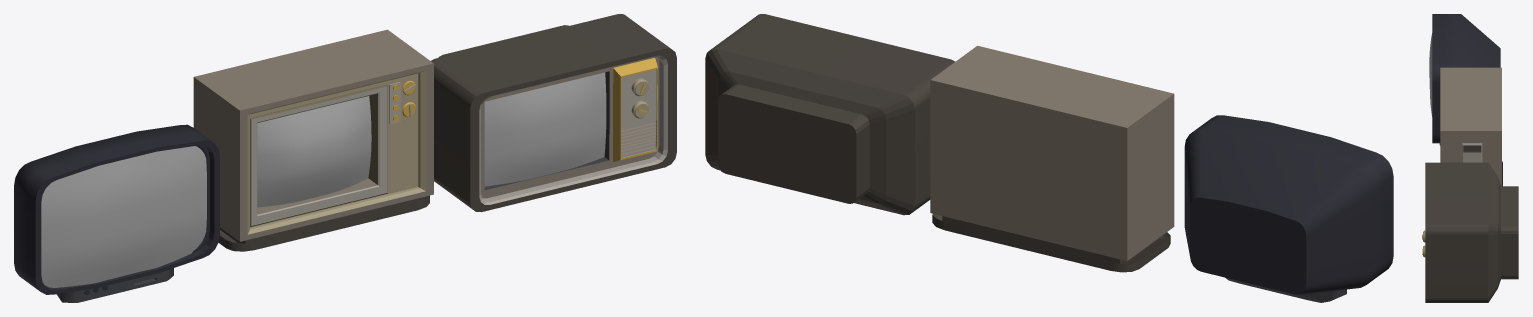
File: fin_fin_tvs.fbx
3 views of the same model, side by side, from view 1: azimuth 30°, elevation 25°; view 2: azimuth 150°, elevation 25°; view 3: azimuth 270°, elevation 25° (orthographic). The views are drawn at different scales.
Parts seen in each view (by area): view 1: TV_2, TV_3, TV_1; view 2: TV_2, TV_3, TV_1; view 3: TV_3, TV_2, TV_1.
Part boxes in pixels (box(x1,y1,x2,y2)): TV_2: box(193, 29, 433, 251); TV_3: box(431, 14, 676, 212); TV_1: box(14, 124, 219, 302); TV_2: box(930, 45, 1174, 272); TV_3: box(705, 14, 955, 215); TV_1: box(1184, 115, 1393, 302); TV_3: box(1422, 162, 1518, 302); TV_2: box(1440, 67, 1502, 186); TV_1: box(1429, 14, 1500, 145).
Bounding box in the file's own units: 20.74 × 4.74 × 4.09.
